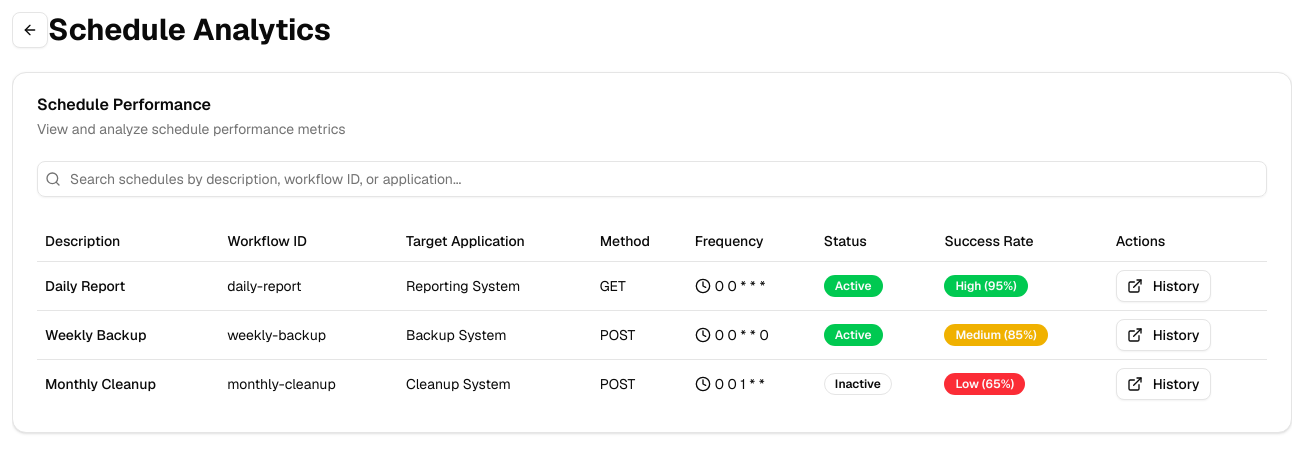
AnalyticsPage › should display "No matching schedules found" when search has no results
The width and height of the screenshot is (1292, 451).
Check: the text "Daily Report" is shown, box [37,261,219,310]
Replace the text in the field with placeholder "Search schedules by description, workflow ID, or application..." with "nonexistent" at [652, 179], box [37,161,1267,197]
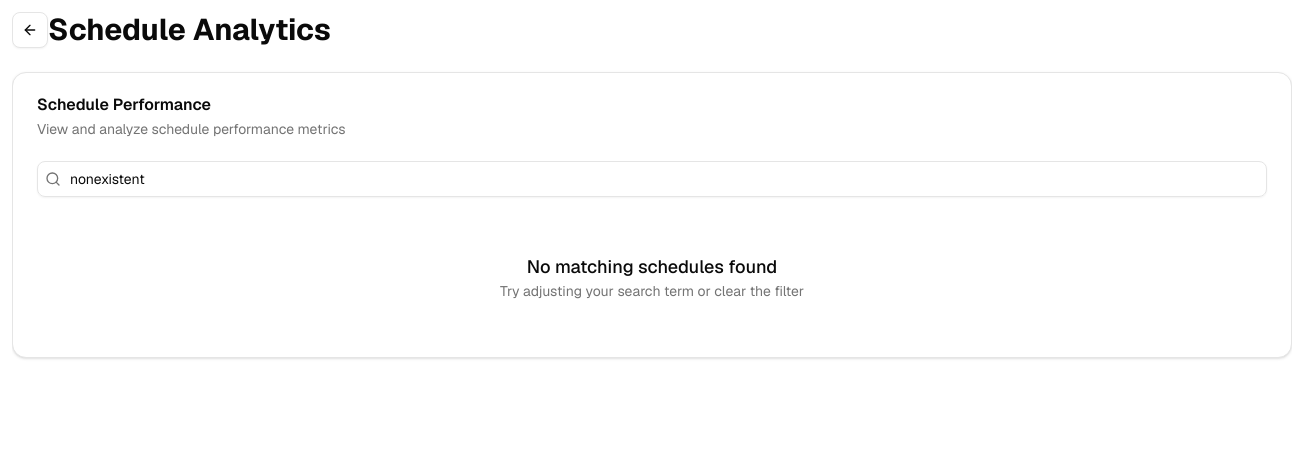
Check: the text "No matching schedules found" is shown, box [527,253,777,281]
Check: the text "Try adjusting your search term or clear the filter" is shown, box [500,281,804,301]
